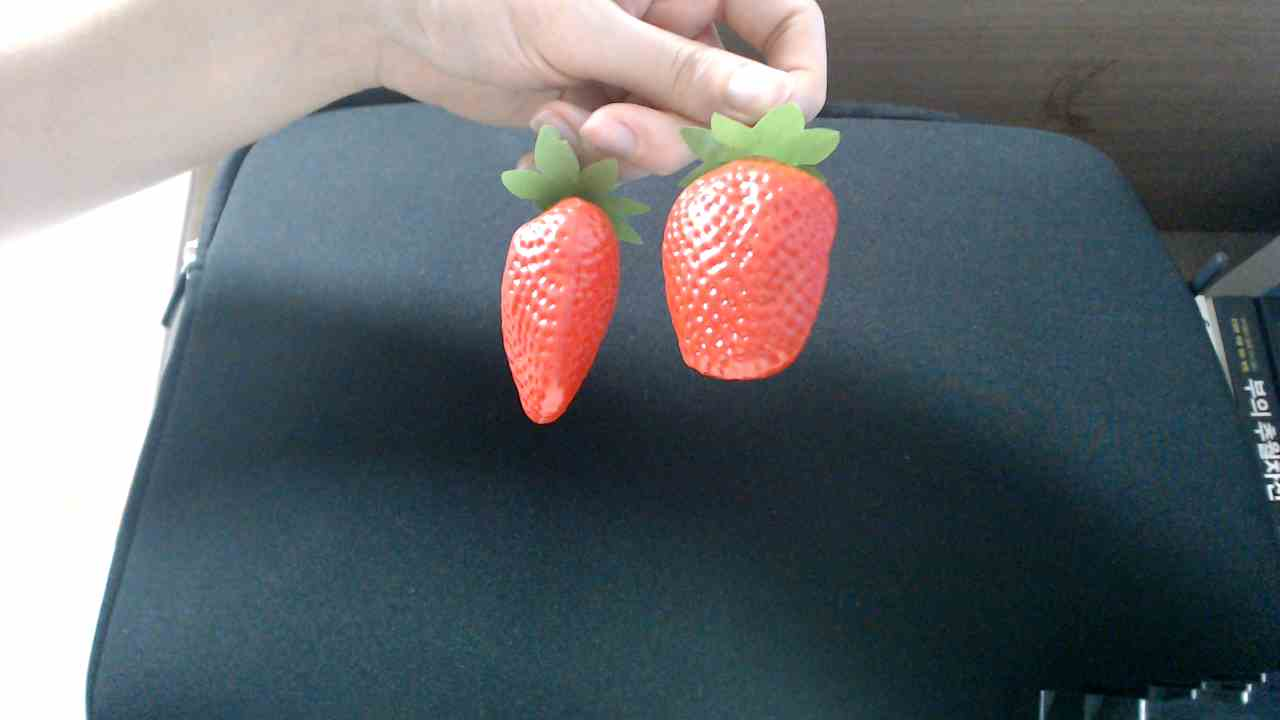strawberry: (654, 151, 849, 398), (484, 173, 625, 434)
